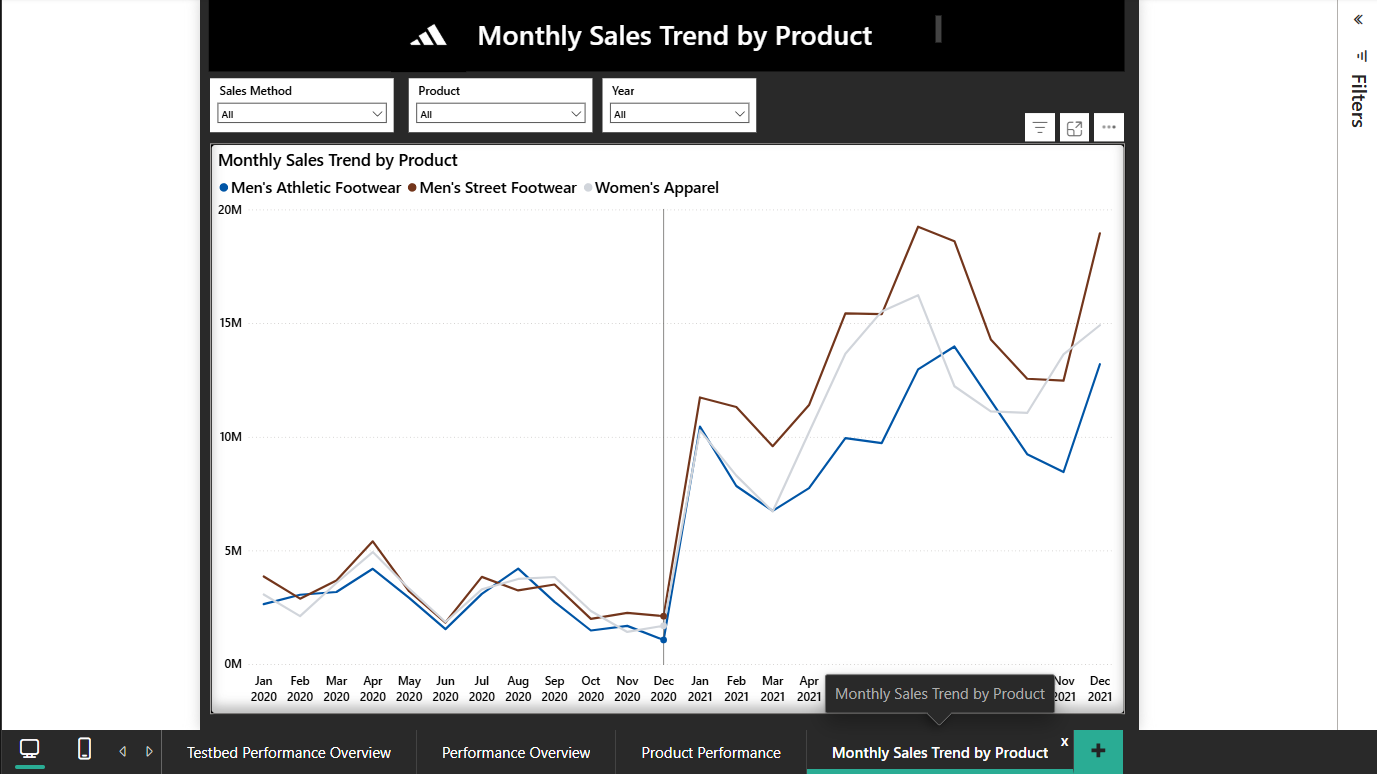

The dashboard page shown, as its layout file describes it:
{"tool":"powerbi","page":{"name":"Monthly Sales Trend by Product","canvas":[1280,1000],"ordinal":3},"visuals":[{"type":"shape","box":[12.7,0,1248.5,101.5],"z":1000},{"type":"textbox","box":[373.2,20.5,642.5,59.6],"z":2000},{"type":"image","box":[110.8,0,402.2,102.3],"z":3000},{"type":"slicer","fields":{"Values":["Table 1 (Data Sales Adidas).Sales Method"]},"box":[13.6,110.8,250.5,73.3],"z":9000},{"type":"slicer","fields":{"Values":["Table 1 (Data Sales Adidas).Product"]},"box":[284.6,110.8,250.5,73.3],"z":10000},{"type":"lineChart","title":"Monthly Sales Trend by Product","fields":{"Category":["Date Table.Month Year"],"Series":["Table 1 (Data Sales Adidas).Product"],"Y":["Sales Calculation.Total Sales"]},"box":[14.2,199.3,1247.6,779.5],"z":10001},{"type":"slicer","fields":{"Values":["Date Table.Year"]},"box":[548.7,110.8,209.6,73.3],"z":10002}]}

Visuals, with their boxes on the page's 1280x1000 design canvas (x1, y1, x2, y2). These are canvas units, not pixel positions in the 1377x774 screenshot, which may show the page scaled, cropped or inside an application window:
shape: <region>13, 0, 1261, 102</region>
textbox: <region>373, 20, 1016, 80</region>
image: <region>111, 0, 513, 102</region>
slicer - Table 1 (Data Sales Adidas).Sales Method: <region>14, 111, 264, 184</region>
slicer - Table 1 (Data Sales Adidas).Product: <region>285, 111, 535, 184</region>
"Monthly Sales Trend by Product" lineChart: <region>14, 199, 1262, 979</region>
slicer - Date Table.Year: <region>549, 111, 758, 184</region>
